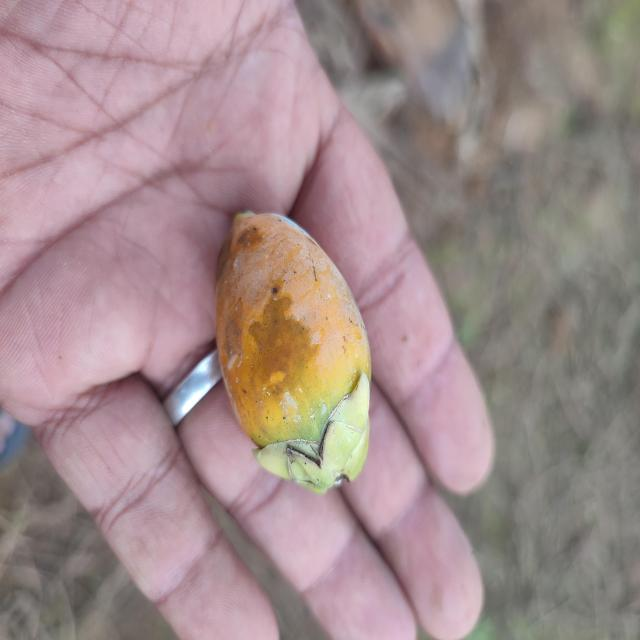good: (213, 212, 373, 496)
